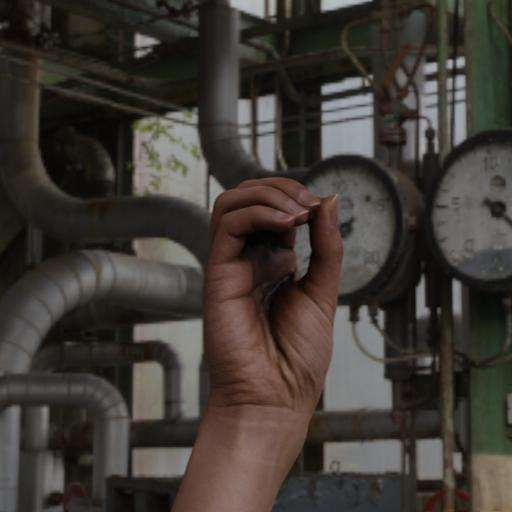O: (161, 175, 360, 487)
